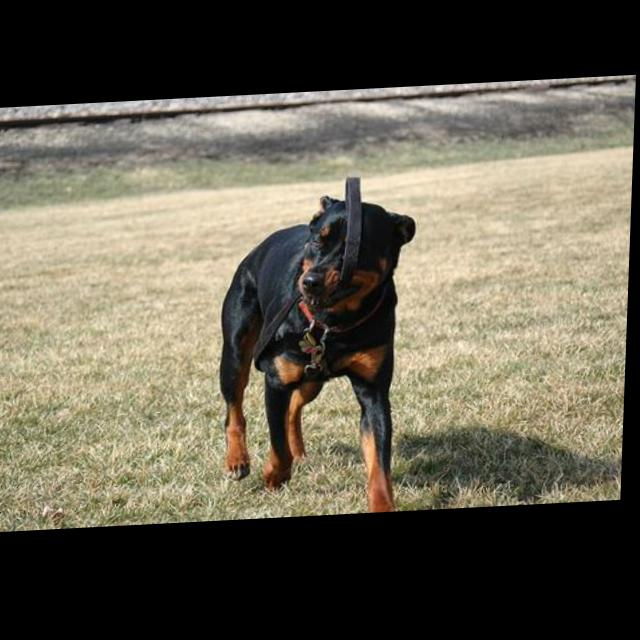rottweiler: (216, 193, 420, 525)
